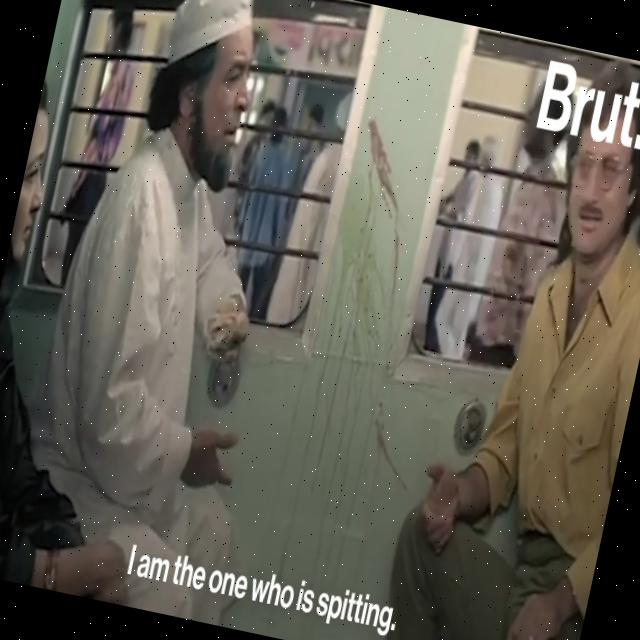spit: (285, 92, 455, 427)
